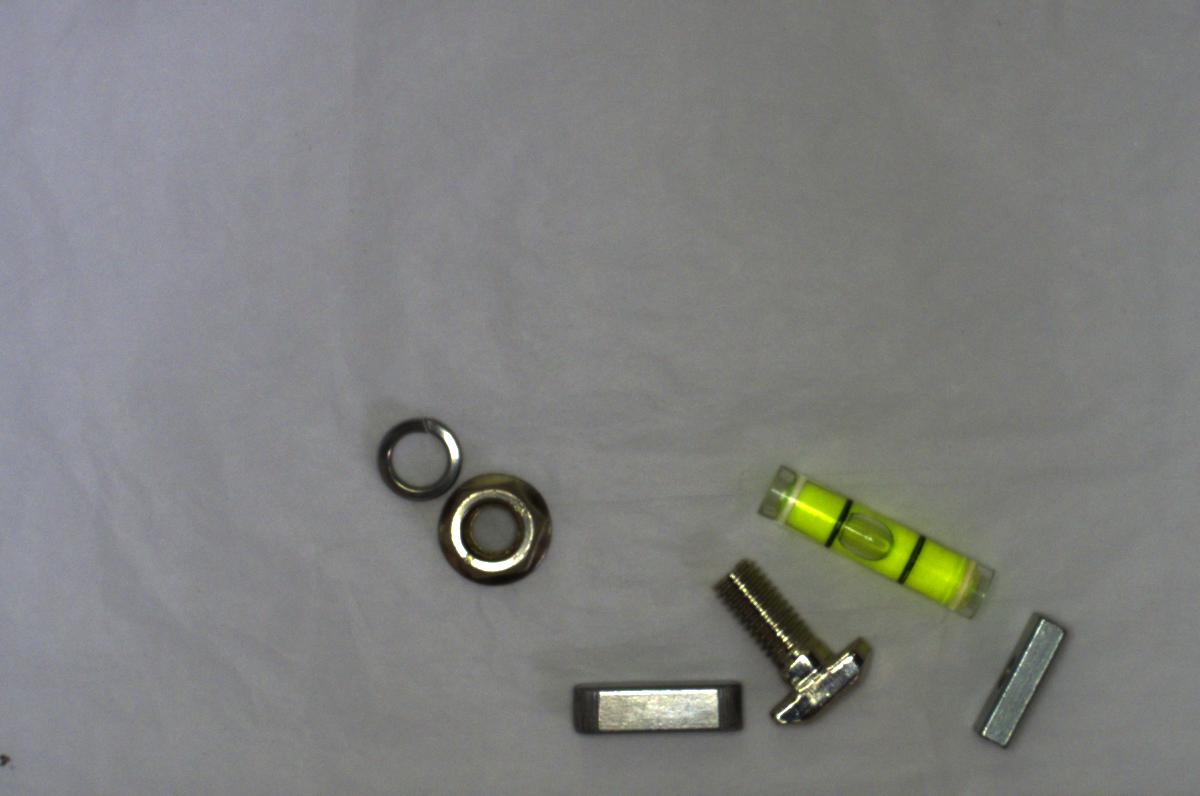Flange nut: (432, 463, 561, 589)
Horizontal bubble: (753, 458, 1002, 622)
Keybar: (557, 673, 758, 742)
Rectangular nut: (971, 614, 1071, 749)
Spring washer: (370, 403, 465, 508)
T-shaped screw: (701, 545, 875, 733)
